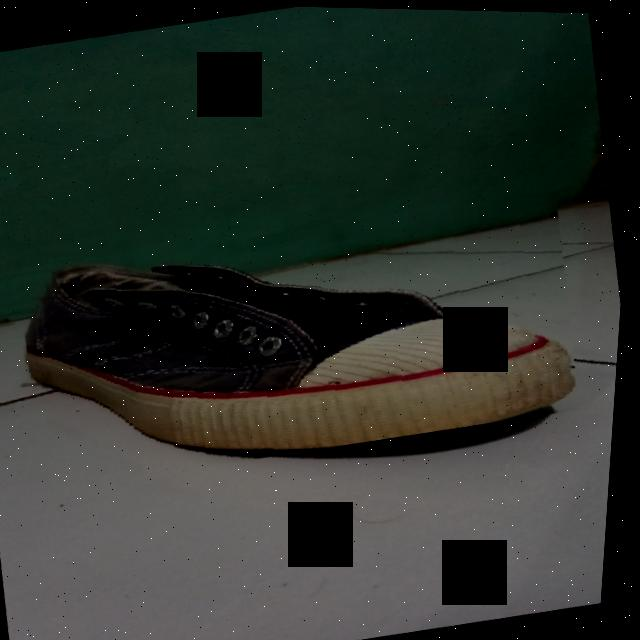shoe: (4, 177, 596, 501)
